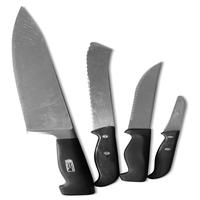knife: (6, 3, 89, 187), (80, 40, 125, 176), (123, 59, 164, 190), (158, 94, 190, 187)
